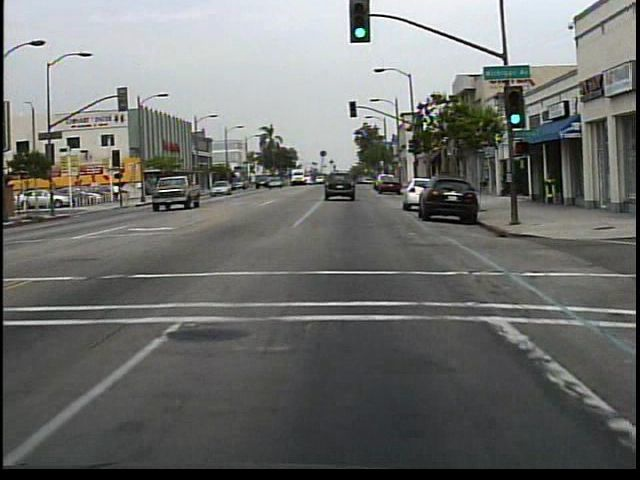person: (113, 181, 122, 206)
